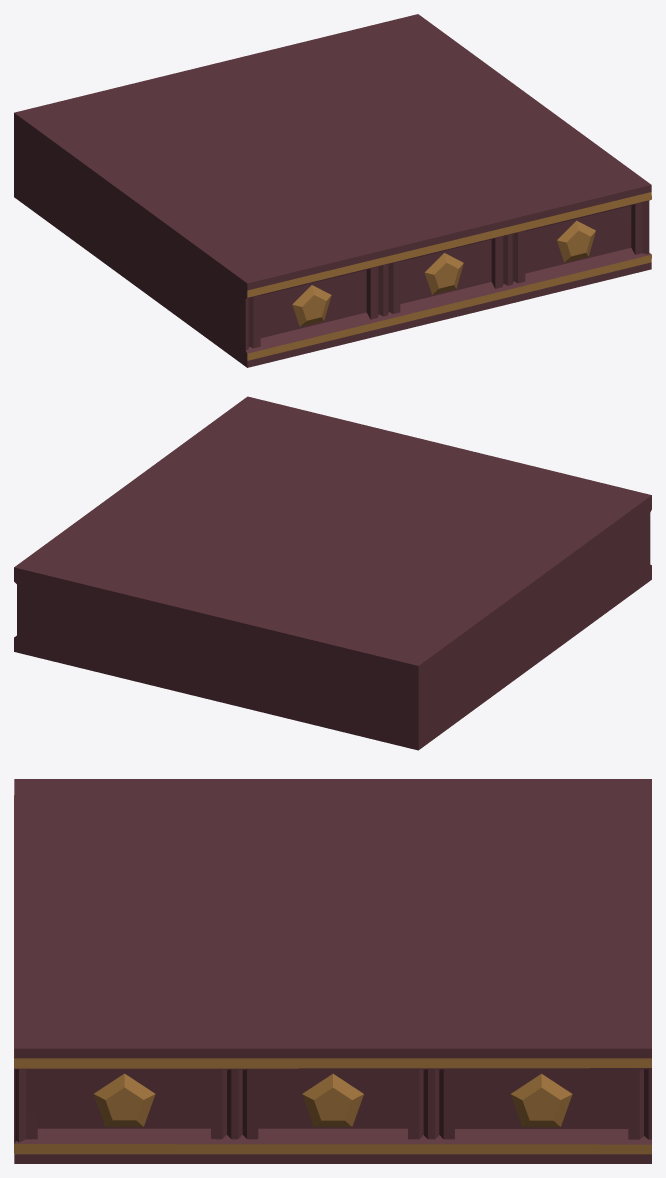
File: SM_Architrave_3x3m_Ornament_FR_Empire.fbx
3 views of the same model, one above another, from view 1: azimuth 30°, elevation 25°; view 2: azimuth 150°, elevation 25°; view 3: azimuth 270°, elevation 25° (orthographic). The views are drawn at different scales.
Visible parts, largest first — view 1: SM_Architrave_3x3m_Ornament_FR_Empire; view 2: SM_Architrave_3x3m_Ornament_FR_Empire; view 3: SM_Architrave_3x3m_Ornament_FR_Empire.
Part boxes in pixels (x1,y1,x2,y2): SM_Architrave_3x3m_Ornament_FR_Empire: [14, 14, 651, 367]; SM_Architrave_3x3m_Ornament_FR_Empire: [14, 396, 651, 750]; SM_Architrave_3x3m_Ornament_FR_Empire: [14, 779, 651, 1163].
Bounding box in the file's own units: 3 × 0.5993 × 3.
